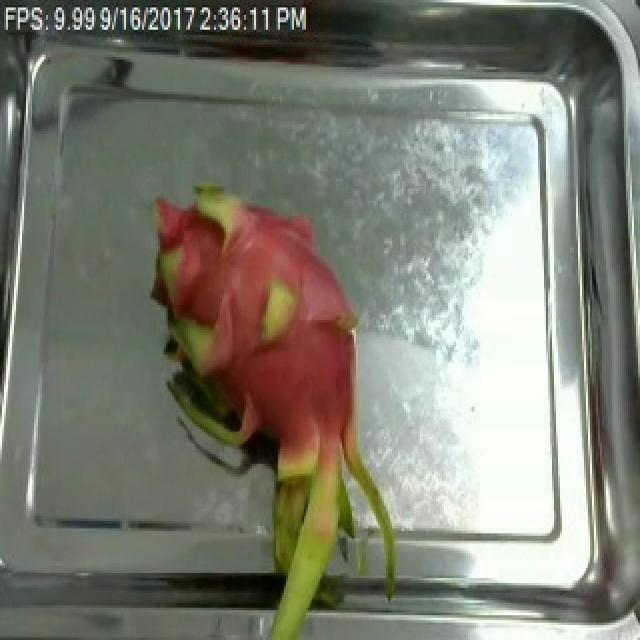fruit: (128, 172, 376, 590)
